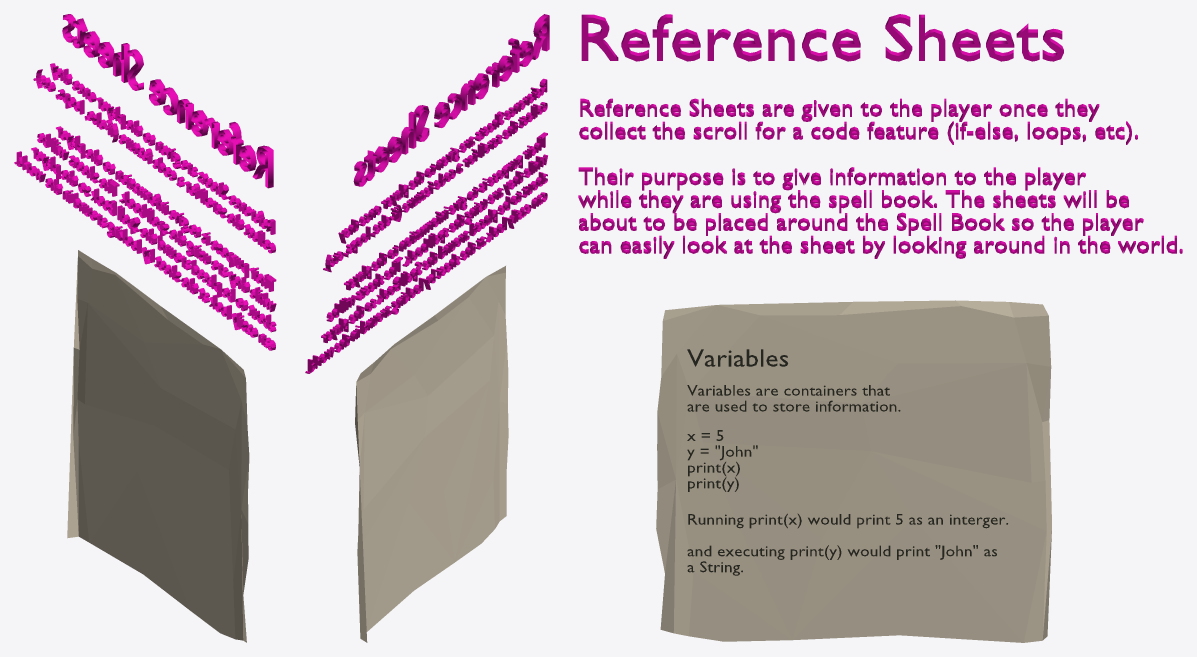
Rendered from SpellBook_tut_refSheets.fbx.
The picture shows the model from 3 angles, left to right: view 1: azimuth 30°, elevation 25°; view 2: azimuth 150°, elevation 25°; view 3: azimuth 270°, elevation 25°; orthographic projection. The views are drawn at different scales.
Parts seen in each view (by area): view 1: Heading_InformationSheets; view 2: Heading_InformationSheets; view 3: Heading_InformationSheets.
Part boxes in pixels (x1,y1,x2,y2): Heading_InformationSheets: (14,14,276,642); Heading_InformationSheets: (305,14,549,642); Heading_InformationSheets: (578,14,1182,642).
Bounding box in the file's own units: 6.91 × 180 × 158.
